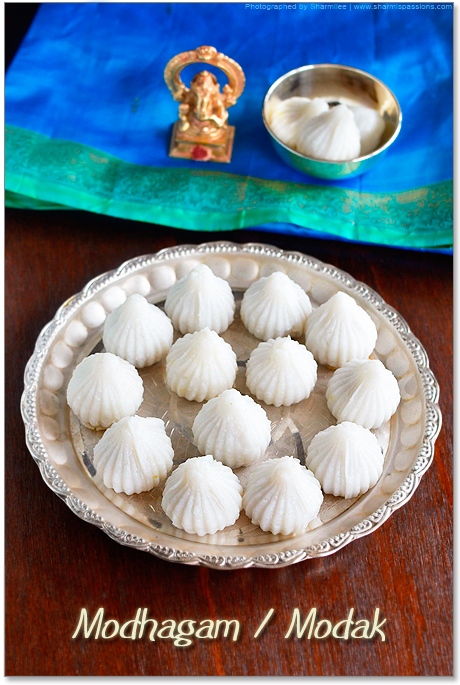modak: (90, 408, 183, 491), (233, 330, 329, 408), (247, 459, 333, 537), (308, 283, 384, 370), (174, 460, 248, 535), (104, 290, 182, 360), (308, 423, 386, 490), (168, 332, 245, 399), (203, 397, 275, 467), (74, 359, 146, 425), (320, 356, 396, 414), (179, 266, 238, 332), (237, 272, 307, 327)
